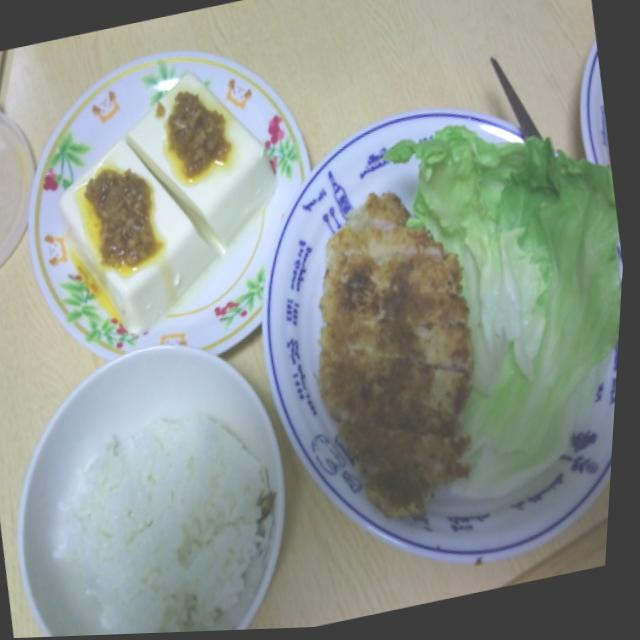米饭主食: (0, 318, 323, 639)
